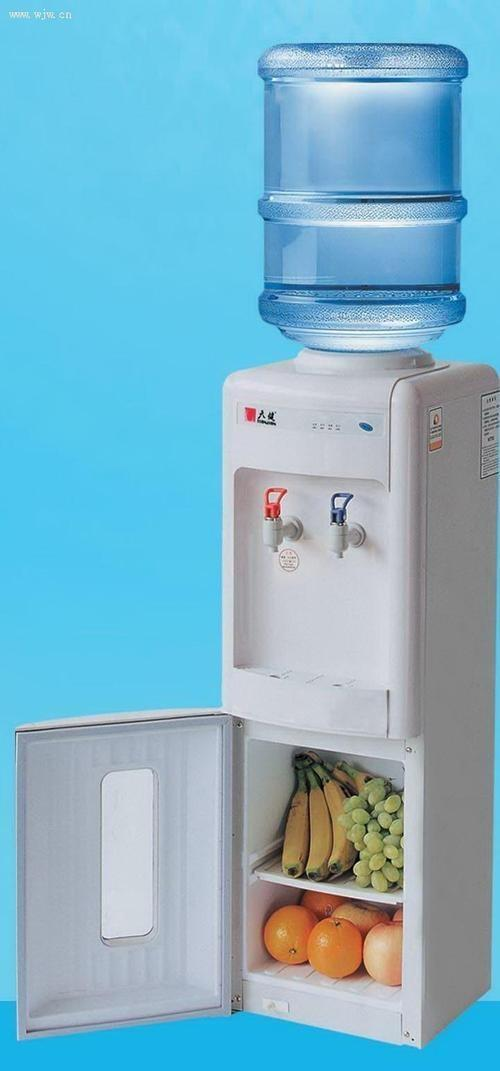Dispenser: (216, 40, 499, 694)
